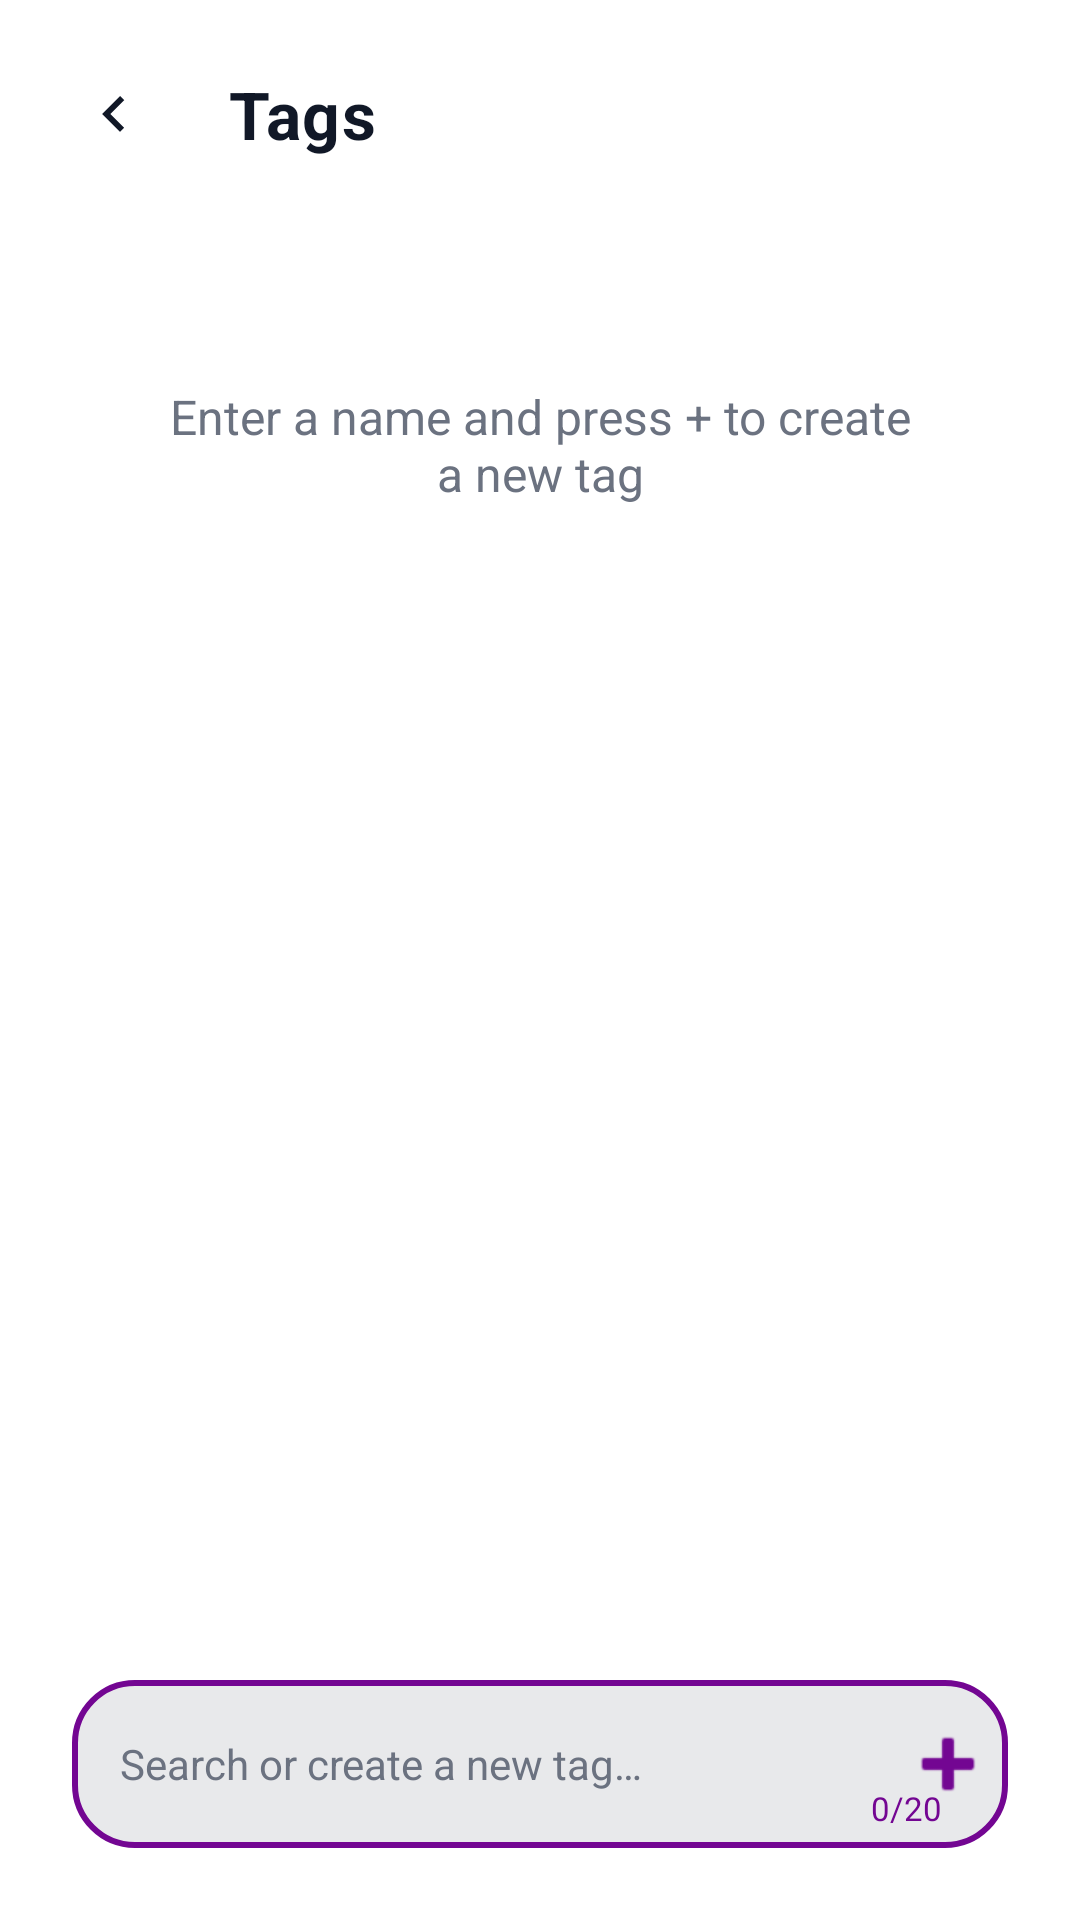

Where to tap for icons on this 1080px×1920px app screen, as [x,y]:
add: [948,1764]
Back: [113,114]
